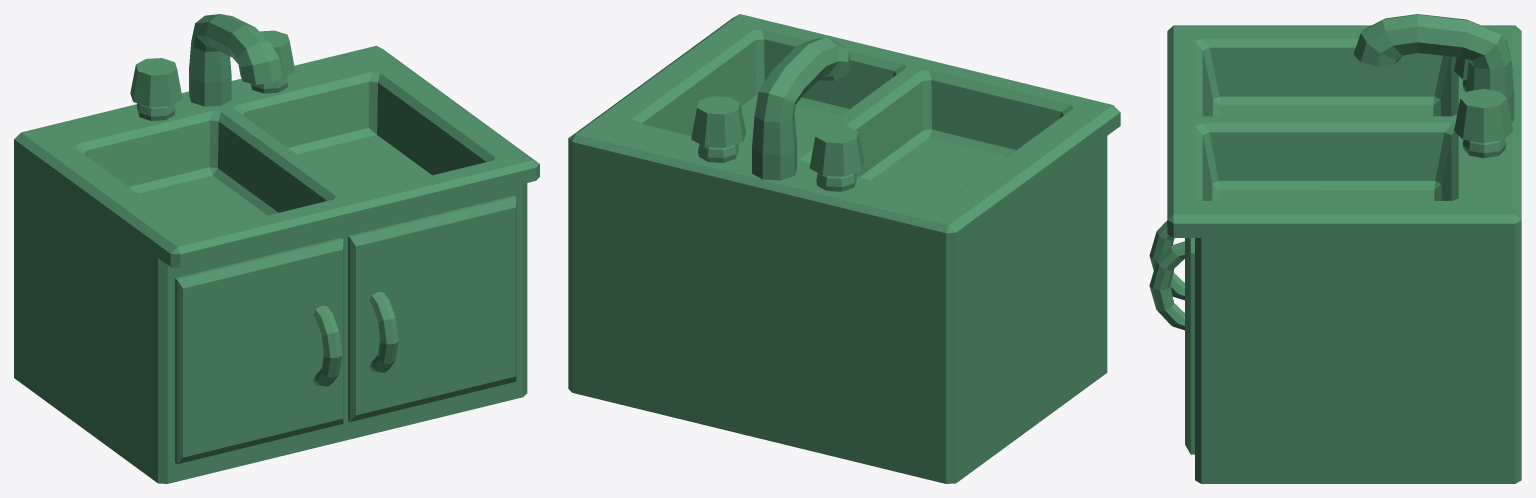
Rendered from Dishwasher_V2.fbx.
3 views of the same model, side by side, from view 1: azimuth 30°, elevation 25°; view 2: azimuth 150°, elevation 25°; view 3: azimuth 270°, elevation 25° (orthographic). The views are drawn at different scales.
Visible parts, largest first — view 1: Dishwasher; view 2: Dishwasher; view 3: Dishwasher.
Part boxes in pixels (x1,y1,x2,y2): Dishwasher: (14, 14, 539, 483); Dishwasher: (568, 14, 1120, 483); Dishwasher: (1149, 14, 1521, 483).
Size of the model in its own units: 175 by 154 by 140.
